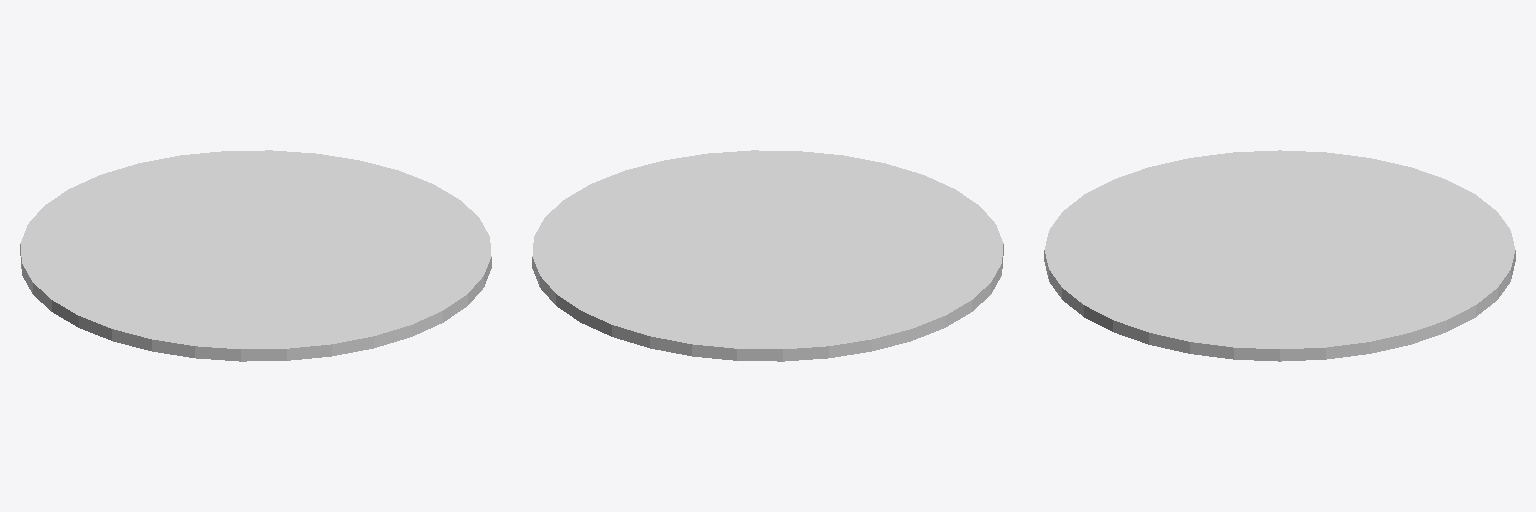
robot.urdf — round_table:
<?xml version="1.0"?>
<robot name="round_table">
  <link name="table_surface_center"/>
  <link name="table_top">
    <inertial>
      <mass value="1.0" />
      <inertia ixx="0.0225" ixy="0" ixz="0" iyy="0.0225" iyz="0" izz="0.0450" />
    </inertial>
    <visual>
      <geometry>
        <cylinder length="0.017" radius="0.30" />
      </geometry>
      <material name="White">
        <color rgba="0.9 0.9 0.9 1.0"/>
      </material>
    </visual>
    <collision group="tables">
      <geometry>
        <box size="0.6 0.6 0.017"/>
      </geometry>
    </collision>
   </link>
   <joint name="table_top_joint" type="fixed">
     <origin xyz="0 0 -0.0085"/>
     <parent link="table_surface_center"/>
     <child link="table_top"/>
   </joint>
</robot>

--- What the picture shows (computed from the rendered views, not written in the file) ---
3 views of the same robot in one strip: view 1: azimuth 30°, elevation 25°; view 2: azimuth 150°, elevation 25°; view 3: azimuth 270°, elevation 25° (orthographic).
Model round_table with 2 links and 1 joints (1 fixed), rooted at table_surface_center, posed all joints at 0.
Links seen in each view (by area): view 1: table_top; view 2: table_top; view 3: table_top.
Boxes of the visible links, <box> form: table_top: <box>20,150,491,361</box>; table_top: <box>532,150,1003,361</box>; table_top: <box>1044,150,1515,361</box>.
Bounding box of the posed robot: 0.6 × 0.6 × 0.017 m (x, y, z).
Geometry: primitives only (box / cylinder / sphere), no mesh files.